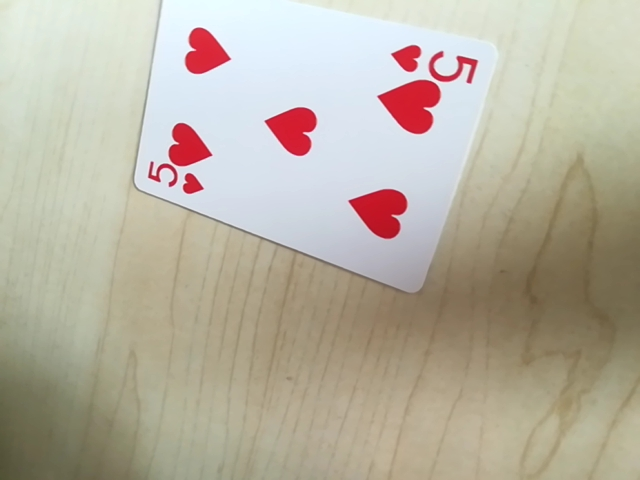hx 5: (386, 39, 481, 82), (144, 162, 210, 200)
